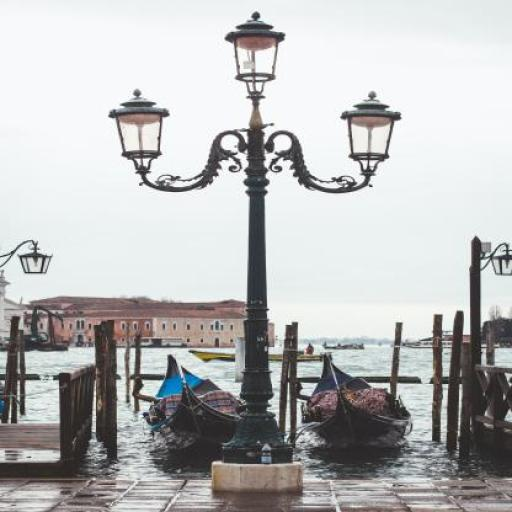street light: (108, 13, 400, 466), (470, 236, 511, 427), (0, 238, 54, 280)
